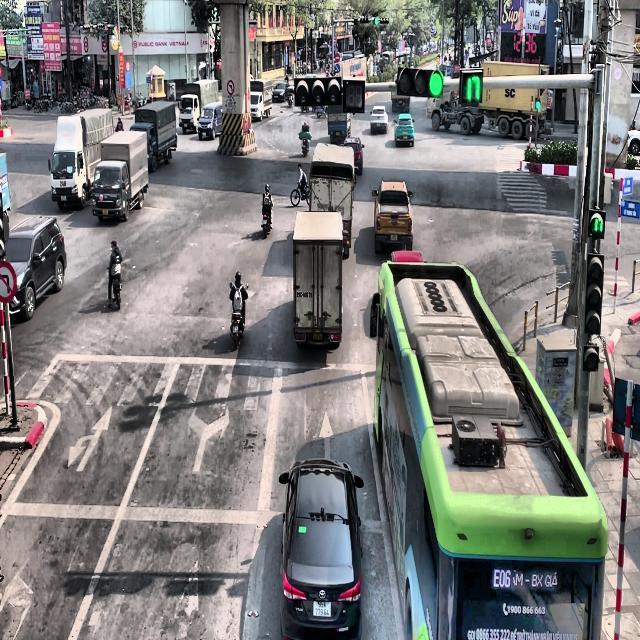BUS: (370, 251, 608, 639)
CAR: (278, 457, 364, 639), (1, 215, 66, 322), (372, 180, 413, 254), (197, 102, 223, 140), (342, 136, 364, 175), (370, 105, 388, 134), (271, 82, 291, 102), (627, 127, 640, 155), (316, 105, 327, 118)
MOTORBIKE: (229, 282, 248, 350), (107, 267, 121, 310), (290, 178, 310, 207), (261, 200, 273, 238), (301, 137, 309, 156)
TRAFFIC_LIGHT: (584, 250, 604, 334), (395, 66, 444, 98), (459, 68, 483, 106), (588, 209, 606, 238), (374, 16, 389, 25), (534, 98, 540, 111), (374, 16, 378, 26)
TRUCK: (48, 107, 115, 209), (91, 130, 149, 222), (131, 100, 178, 172)
